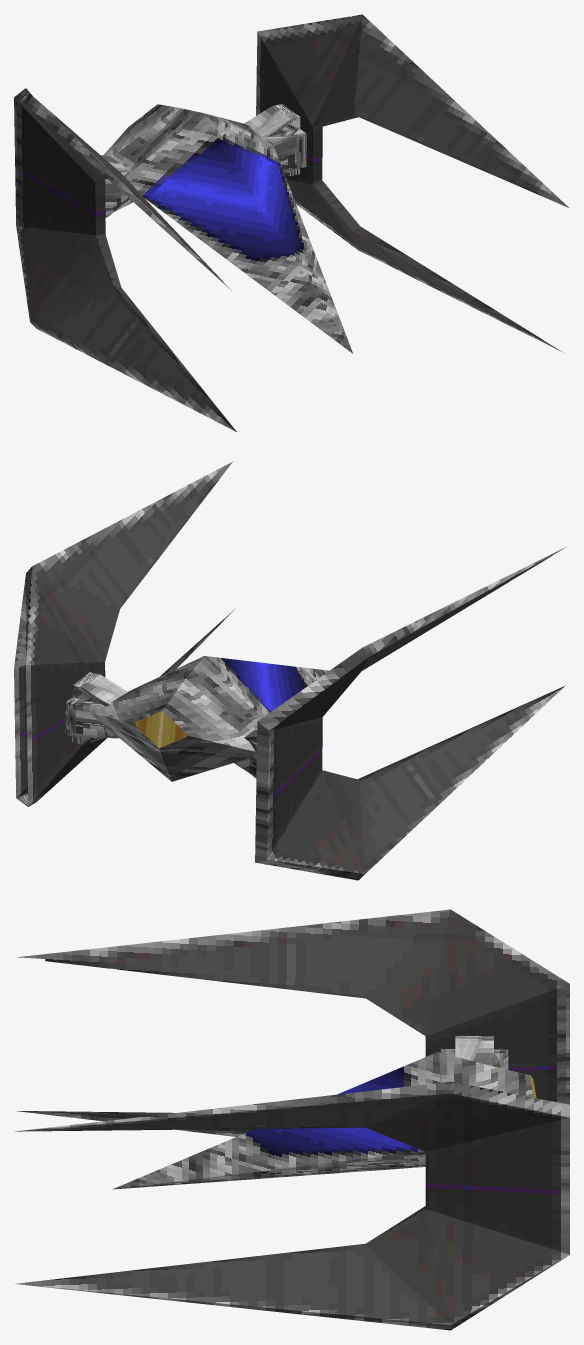
File: afighter.obj
3 renders of one model, top to bottom at view 1: azimuth 30°, elevation 25°; view 2: azimuth 150°, elevation 25°; view 3: azimuth 270°, elevation 25°, orthographic. The views are drawn at different scales.
Bounding box in the file's own units: 4.56 × 2.98 × 5.99.
Materials: 5 (5 with a texture image).
